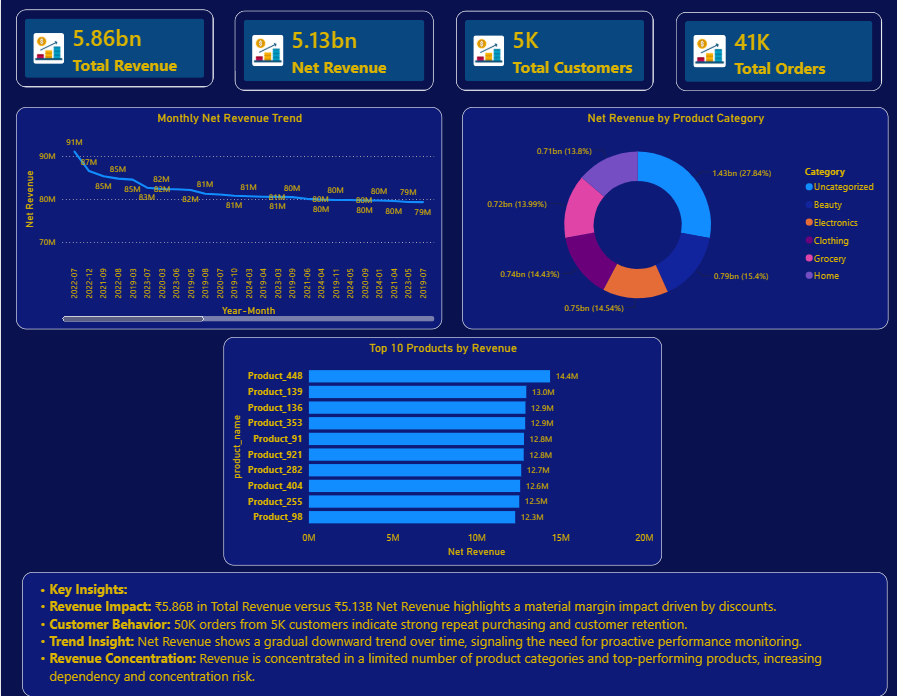

This screenshot's page, from the dashboard's own definition file:
{"tool":"powerbi","page":{"name":"Excecutive Overview","canvas":[1280,1000],"ordinal":0},"visuals":[{"type":"cardVisual","fields":{"Data":["_Measures.Total Revenue"]},"box":[21.7,17.4,282.6,111.6],"z":0},{"type":"cardVisual","fields":{"Data":["_Measures.Net Revenue"]},"box":[334.8,18.8,284.1,114.5],"z":1000},{"type":"cardVisual","fields":{"Data":["_Measures.Total Customers"]},"box":[649.3,20.3,282.6,114.5],"z":2000},{"type":"cardVisual","fields":{"Data":["_Measures.Total Orders"]},"box":[963.8,21.7,294.2,113],"z":3000},{"type":"lineChart","title":"Monthly Net Revenue Trend","fields":{"Category":["Date_Table.Year-Month"],"Y":["_Measures.Net Revenue"]},"box":[21.7,156.5,608.7,317.4],"z":4000},{"type":"donutChart","title":"Net Revenue by Product Category","fields":{"Category":["dim_products.category"],"Y":["_Measures.Net Revenue"]},"box":[659.4,156.5,608.7,317.4],"z":5000},{"type":"clusteredBarChart","title":"Top 10 Products by Revenue","fields":{"Category":["dim_products.product_name"],"Y":["_Measures.Net Revenue"]},"box":[317.4,485.5,626.1,326.1],"z":6000},{"type":"textbox","box":[30.4,821.7,1236.2,178.3],"z":7000}]}

Visuals, with their boxes in screenshot pixels (x1, y1, x2, y2), scaled from the page's 1280x1000 canvas onto the 897x696 screenshot:
cardVisual - _Measures.Total Revenue: pyautogui.locateOnScreen(15, 12, 213, 90)
cardVisual - _Measures.Net Revenue: pyautogui.locateOnScreen(235, 13, 434, 93)
cardVisual - _Measures.Total Customers: pyautogui.locateOnScreen(455, 14, 653, 94)
cardVisual - _Measures.Total Orders: pyautogui.locateOnScreen(675, 15, 882, 94)
"Monthly Net Revenue Trend" lineChart: pyautogui.locateOnScreen(15, 109, 442, 330)
"Net Revenue by Product Category" donutChart: pyautogui.locateOnScreen(462, 109, 889, 330)
"Top 10 Products by Revenue" clusteredBarChart: pyautogui.locateOnScreen(222, 338, 661, 565)
textbox: pyautogui.locateOnScreen(21, 572, 888, 695)
